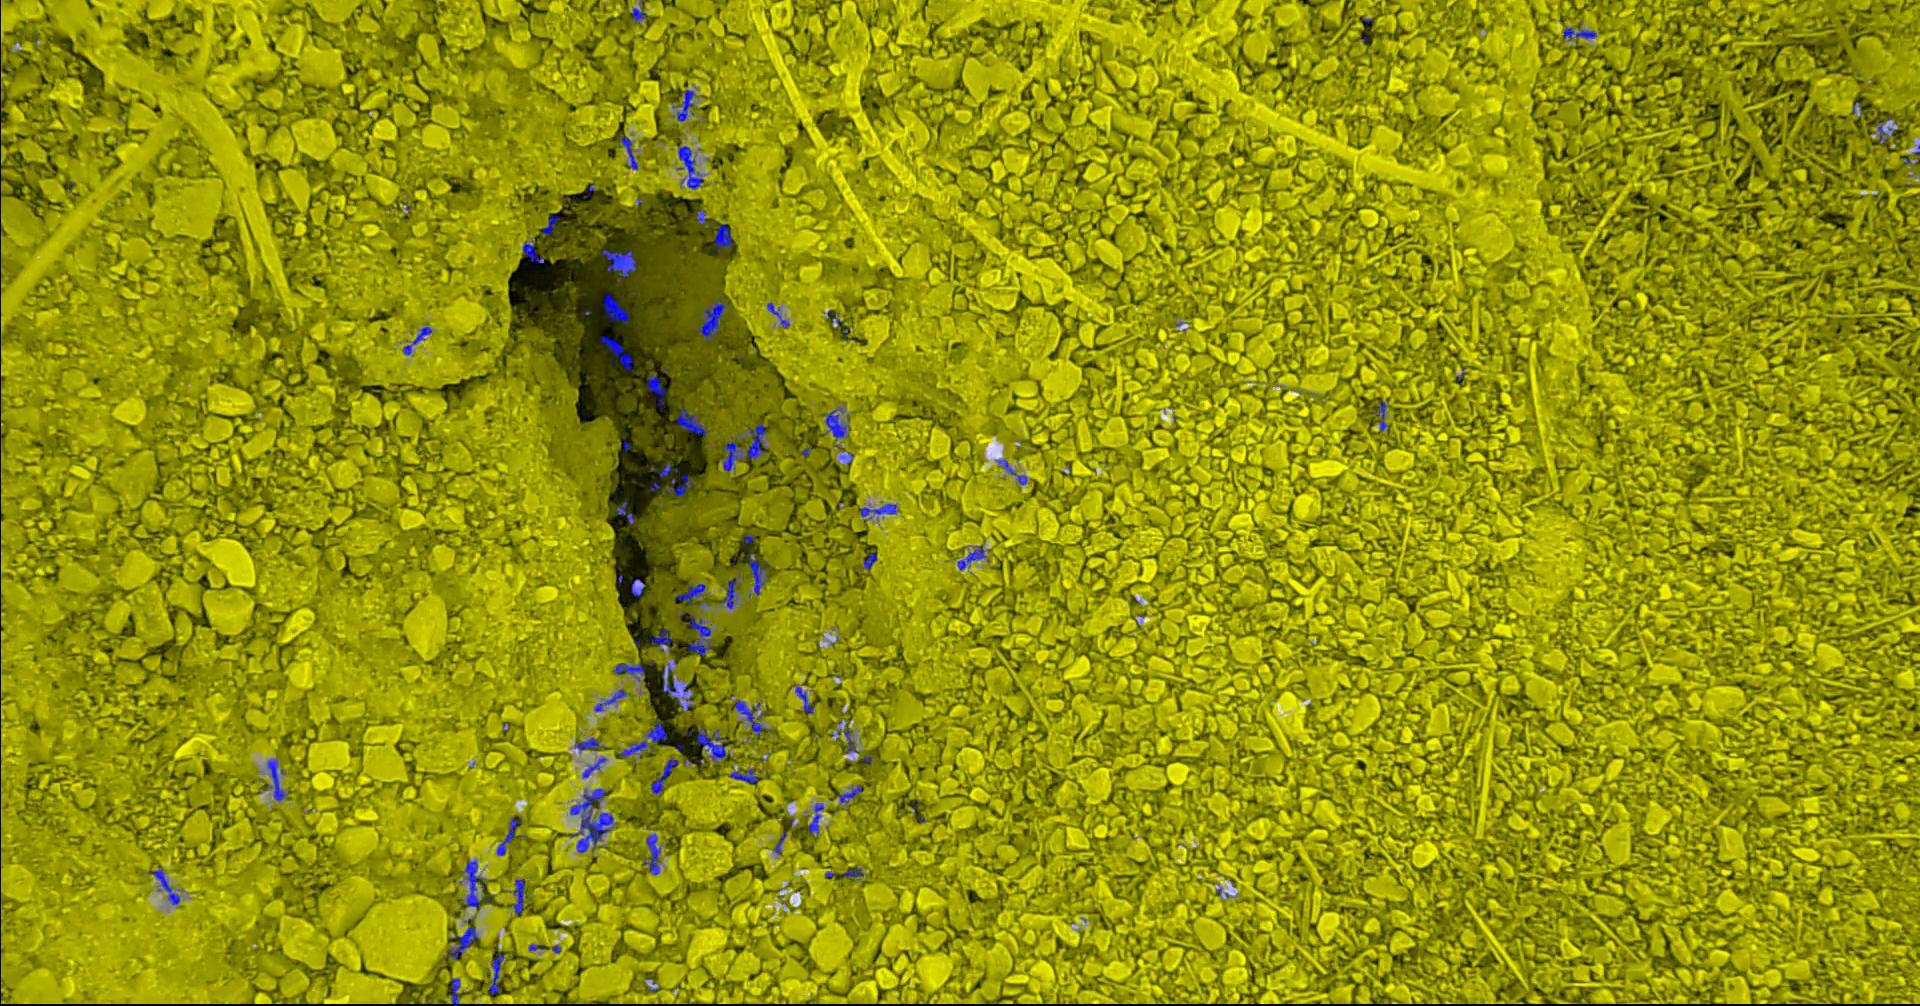ant: (723, 423, 766, 471), (618, 719, 667, 757), (662, 663, 691, 710), (695, 300, 728, 340), (734, 699, 767, 737), (599, 248, 636, 281), (695, 727, 728, 763), (676, 145, 702, 189), (684, 612, 711, 655), (599, 335, 632, 370), (444, 925, 477, 959), (650, 758, 678, 796), (745, 551, 770, 594), (151, 868, 179, 904), (463, 860, 485, 907), (497, 815, 521, 855), (676, 406, 707, 434), (265, 760, 286, 800), (996, 459, 1027, 484), (824, 406, 848, 439), (403, 326, 430, 354), (602, 293, 629, 323), (593, 688, 626, 711), (643, 833, 660, 875), (672, 89, 695, 121), (646, 371, 667, 406), (957, 545, 985, 570), (665, 473, 695, 495), (674, 583, 705, 605), (618, 135, 637, 169), (488, 953, 503, 995), (858, 503, 897, 520), (720, 575, 738, 608), (1872, 121, 1895, 145), (766, 302, 789, 326), (714, 224, 733, 251), (794, 685, 813, 713), (649, 627, 672, 650), (582, 757, 606, 779), (510, 878, 524, 915), (613, 663, 644, 680), (808, 801, 823, 835), (522, 240, 543, 263), (1373, 400, 1388, 431), (574, 737, 604, 752), (1562, 25, 1596, 38), (838, 784, 861, 803), (616, 500, 634, 525), (729, 768, 759, 782), (450, 978, 463, 1005), (541, 213, 557, 234), (631, 0, 646, 22), (843, 729, 856, 753), (630, 577, 645, 596), (773, 831, 786, 854), (839, 868, 863, 879), (658, 464, 677, 478), (862, 553, 876, 570), (695, 210, 705, 224)
